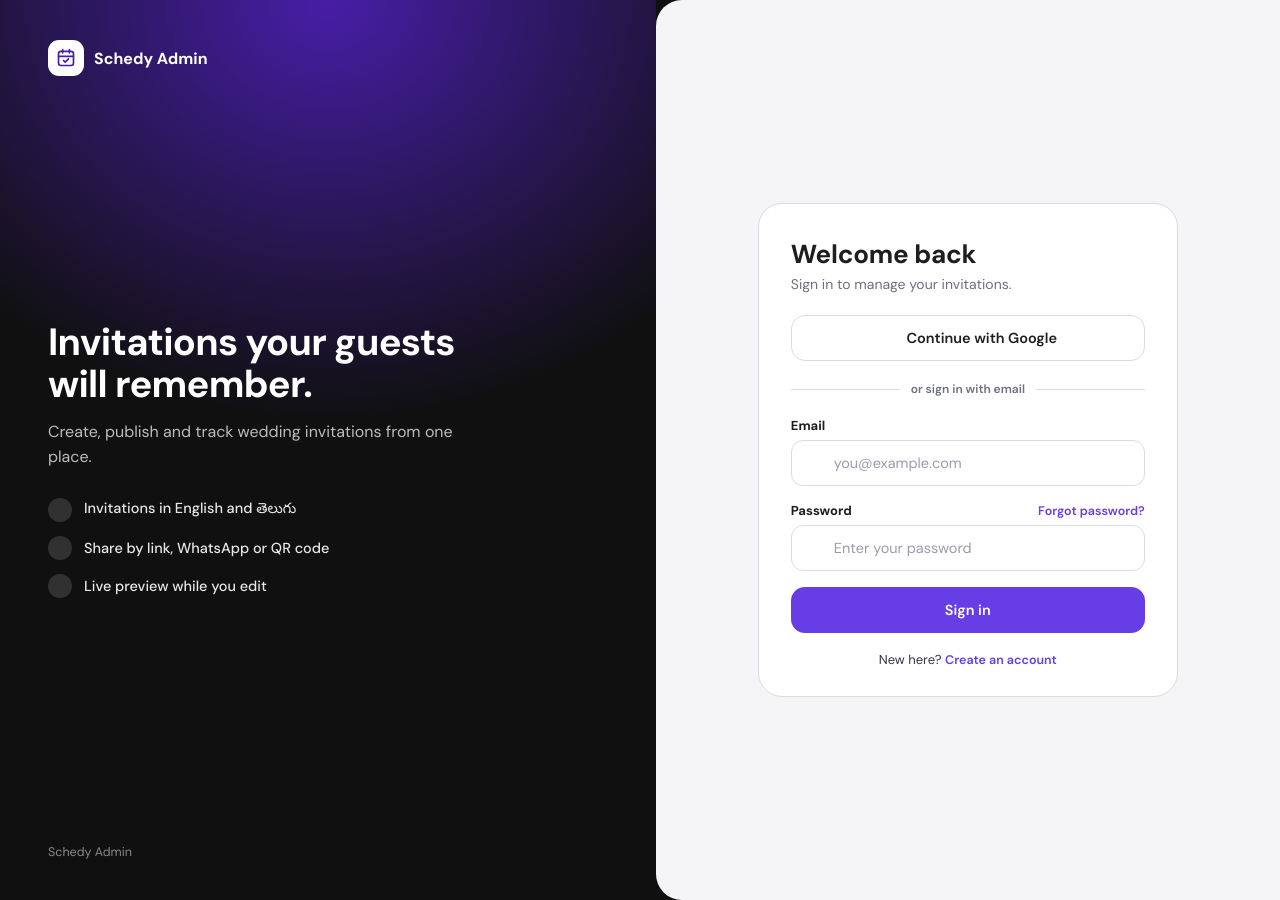
Test: Login: Google (M-7) › shows the message and unlocks when Google sign-in fails
Click the button "Continue with Google". click: {"x": 968, "y": 338}
box: 791,315 -> 1145,361
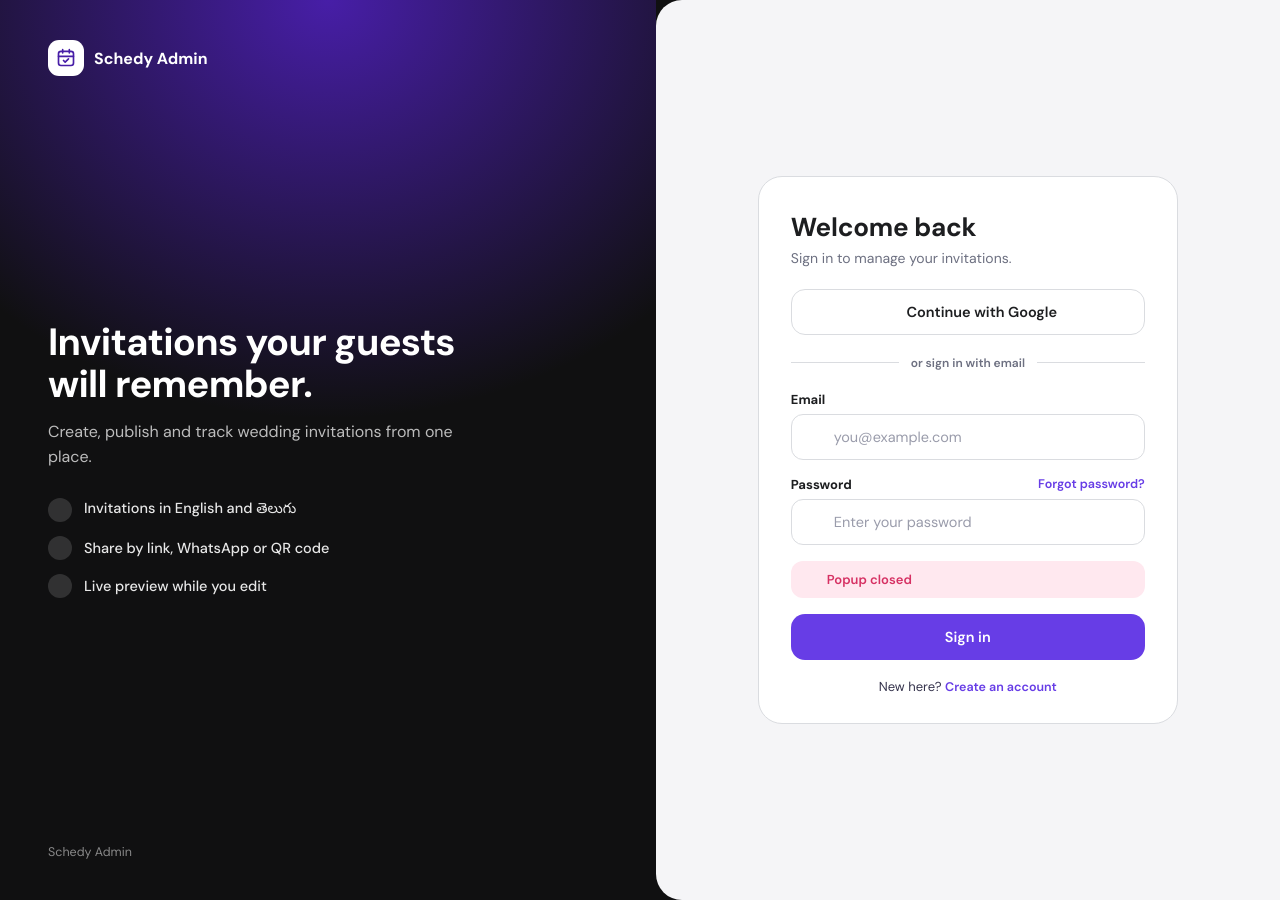
Expected: the button "Continue with Google" is enabled, 791,289 -> 1145,335
Expected: the text "Popup closed" is shown, 791,561 -> 1145,598
